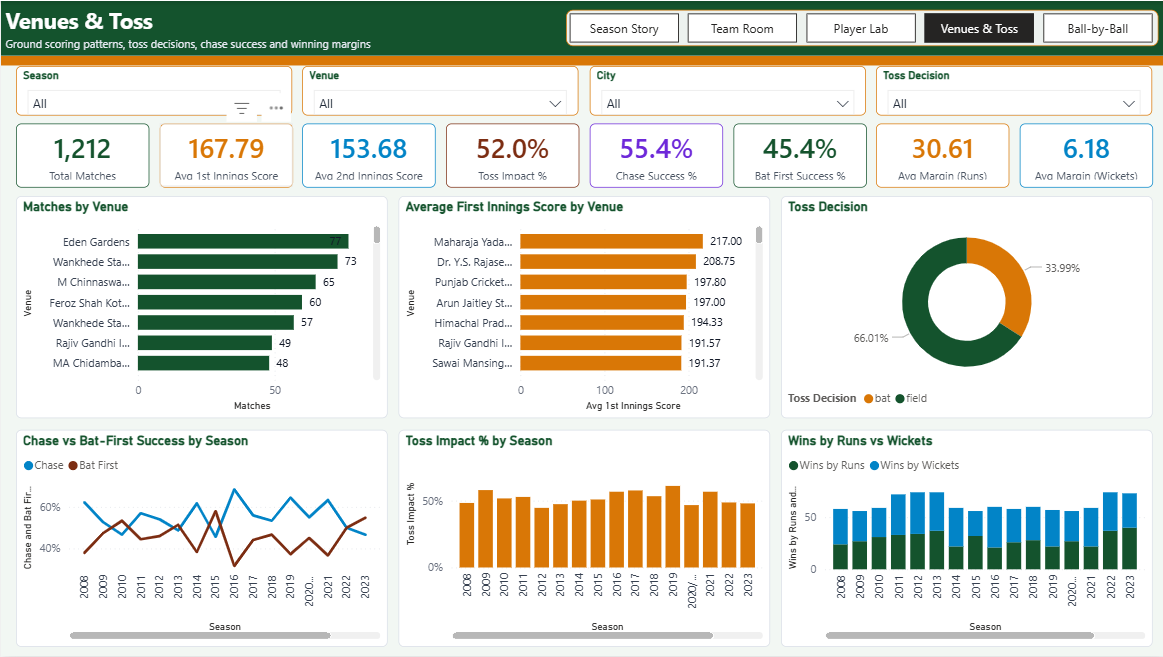

The dashboard page shown, as its layout file describes it:
{"tool":"powerbi","page":{"name":"Venues & Toss","canvas":[1280,720],"ordinal":3},"visuals":[{"type":"textbox","box":[0,0,1280,60],"z":1000},{"type":"textbox","box":[0,60,1280,4],"z":2000},{"type":"pageNavigator","box":[620,10,650,40],"z":3000},{"type":"slicer","title":"Season","fields":{"Values":["Dim Season.season"]},"box":[16,72,303,54],"z":4000},{"type":"slicer","title":"Venue","fields":{"Values":["Dim Venue.venue"]},"box":[331,72,303,54],"z":5000},{"type":"slicer","title":"City","fields":{"Values":["Dim Venue.city"]},"box":[646,72,303,54],"z":6000},{"type":"slicer","title":"Toss Decision","fields":{"Values":["Fact Match.toss_decision"]},"box":[961,72,303,54],"z":7000},{"type":"card","fields":{"Values":["_Measures.Total Matches"]},"box":[16,134,146,70],"z":8000},{"type":"card","fields":{"Values":["_Measures.Average First Innings Score"]},"box":[174,134,146,70],"z":9000},{"type":"card","fields":{"Values":["_Measures.Average Second Innings Score"]},"box":[331,134,146,70],"z":10000},{"type":"card","fields":{"Values":["_Measures.Toss Impact %"]},"box":[488,134,146,70],"z":11000},{"type":"card","fields":{"Values":["_Measures.Chase Success %"]},"box":[646,134,146,70],"z":12000},{"type":"card","fields":{"Values":["_Measures.Bat First Success %"]},"box":[804,134,146,70],"z":13000},{"type":"card","fields":{"Values":["_Measures.Average Winning Margin - Runs"]},"box":[961,134,146,70],"z":14000},{"type":"card","fields":{"Values":["_Measures.Average Winning Margin - Wickets"]},"box":[1118,134,146,70],"z":15000},{"type":"clusteredBarChart","title":"Matches by Venue","fields":{"Category":["Dim Venue.venue"],"Y":["_Measures.Matches by Venue"]},"box":[16,214,408,244],"z":16000},{"type":"clusteredBarChart","title":"Average First Innings Score by Venue","fields":{"Category":["Dim Venue.venue"],"Y":["_Measures.Average Score by Venue"]},"box":[436,214,408,244],"z":17000},{"type":"donutChart","title":"Toss Decision","fields":{"Category":["Fact Match.toss_decision"],"Y":["_Measures.Total Matches"]},"box":[856,214,408,244],"z":18000},{"type":"lineChart","title":"Chase vs Bat-First Success by Season","fields":{"Category":["Dim Season.season"],"Y":["_Measures.Chase Success %","_Measures.Bat First Success %"]},"box":[16,470,408,238],"z":19000},{"type":"clusteredColumnChart","title":"Toss Impact % by Season","fields":{"Category":["Dim Season.season"],"Y":["_Measures.Toss Impact %"]},"box":[436,470,408,238],"z":20000},{"type":"columnChart","title":"Wins by Runs vs Wickets","fields":{"Category":["Dim Season.season"],"Y":["_Measures.Wins by Runs","_Measures.Wins by Wickets"]},"box":[856,470,408,238],"z":21000}]}

Visuals, with their boxes in screenshot pixels (x1, y1, x2, y2), scaled from the page's 1280x720 canvas onto the 1163x657 screenshot:
textbox: [0, 0, 1162, 55]
textbox: [0, 55, 1162, 58]
pageNavigator: [563, 9, 1154, 46]
"Season" slicer: [15, 66, 290, 115]
"Venue" slicer: [301, 66, 576, 115]
"City" slicer: [587, 66, 862, 115]
"Toss Decision" slicer: [873, 66, 1148, 115]
card - _Measures.Total Matches: [15, 122, 147, 186]
card - _Measures.Average First Innings Score: [158, 122, 291, 186]
card - _Measures.Average Second Innings Score: [301, 122, 433, 186]
card - _Measures.Toss Impact %: [443, 122, 576, 186]
card - _Measures.Chase Success %: [587, 122, 720, 186]
card - _Measures.Bat First Success %: [731, 122, 863, 186]
card - _Measures.Average Winning Margin - Runs: [873, 122, 1006, 186]
card - _Measures.Average Winning Margin - Wickets: [1016, 122, 1148, 186]
"Matches by Venue" clusteredBarChart: [15, 195, 385, 418]
"Average First Innings Score by Venue" clusteredBarChart: [396, 195, 767, 418]
"Toss Decision" donutChart: [778, 195, 1148, 418]
"Chase vs Bat-First Success by Season" lineChart: [15, 429, 385, 646]
"Toss Impact % by Season" clusteredColumnChart: [396, 429, 767, 646]
"Wins by Runs vs Wickets" columnChart: [778, 429, 1148, 646]
